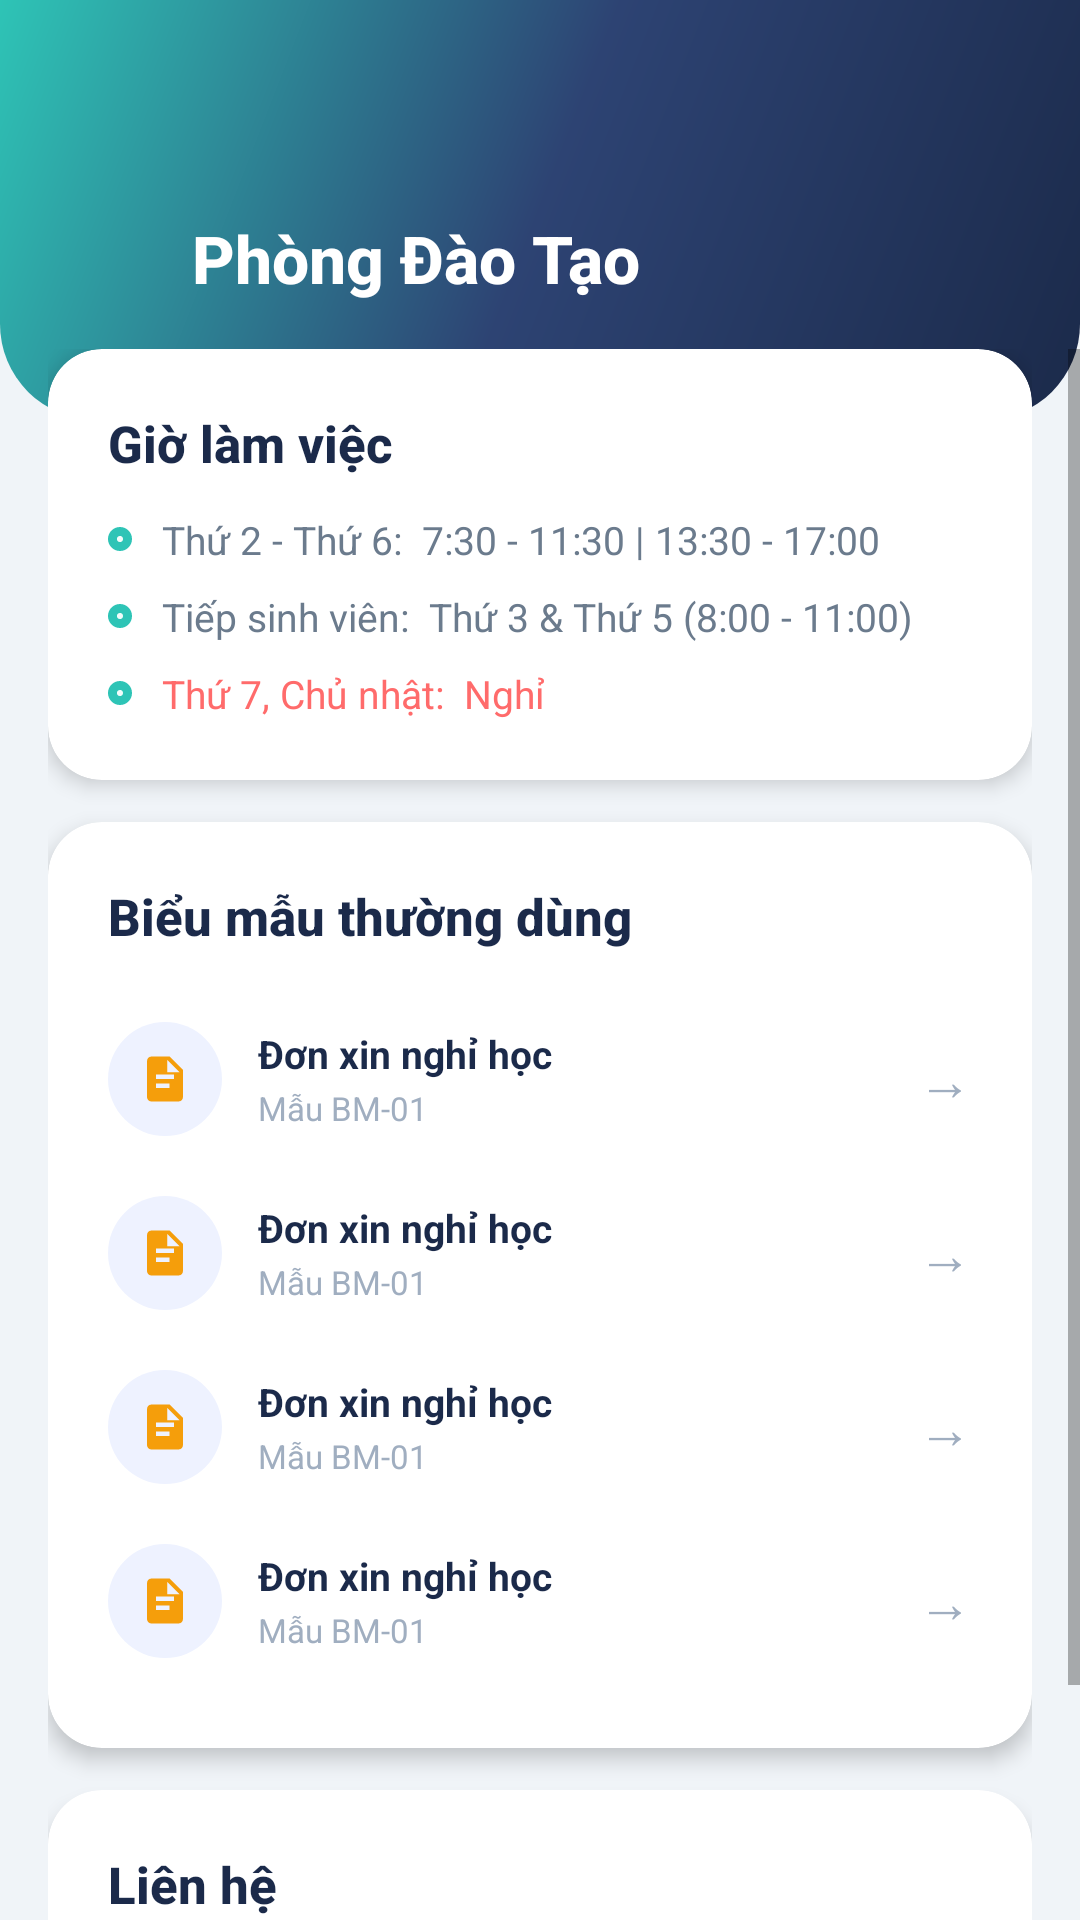

Where to tap for icons on this 1080px×1920px app screen, as [x,y]:
Form: [165,1079], [165,1253], [165,1427], [165,1601]
